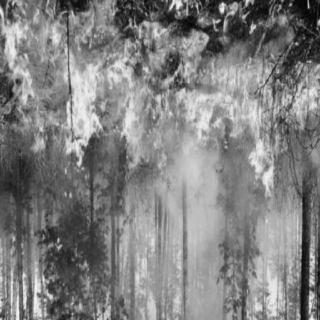Fire: (6, 4, 307, 228)
